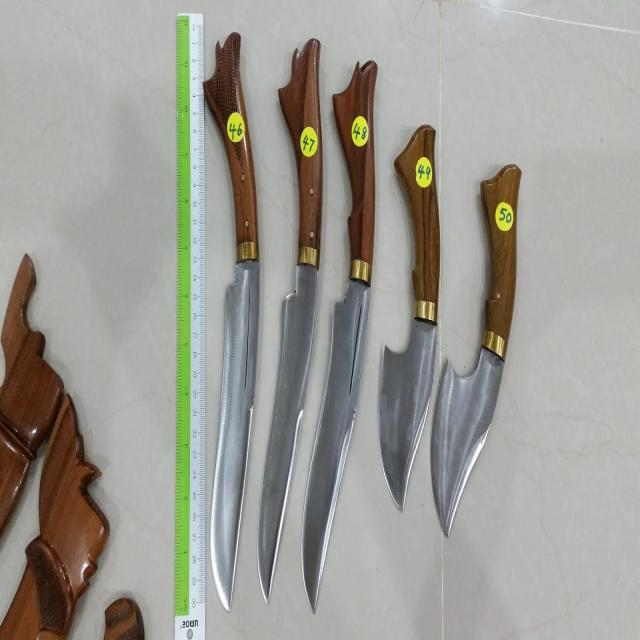Pisau: (205, 4, 269, 632)
